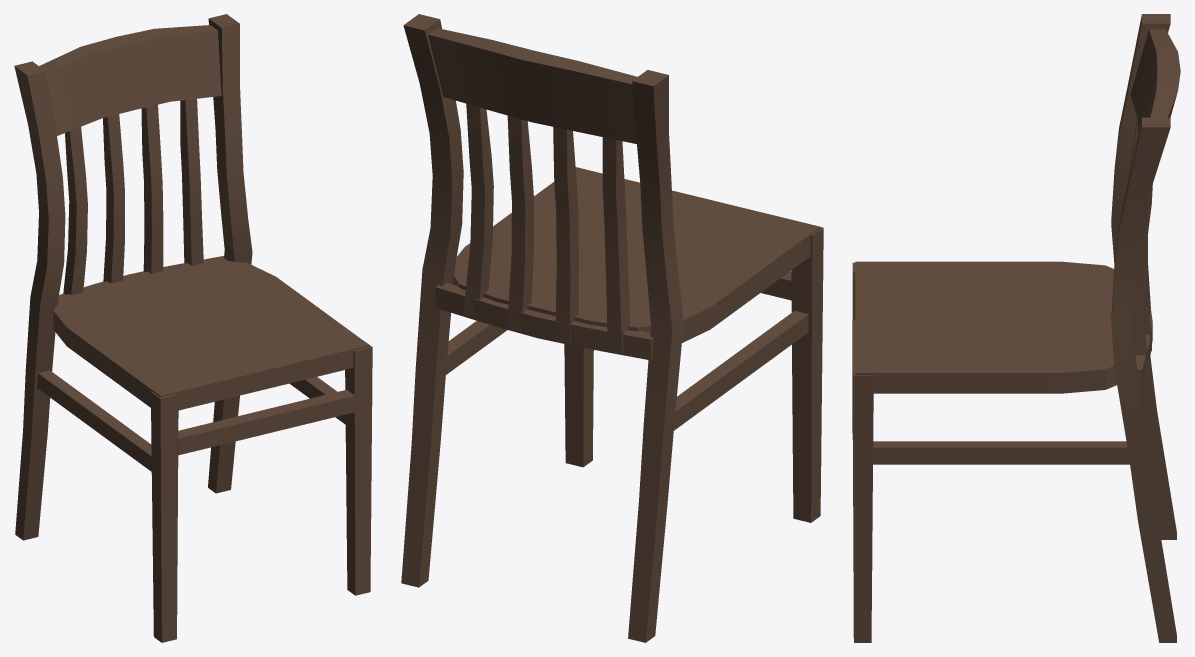
The model's file is Chair_kitchen_type1.FBX.
3 renders of one model, left to right at view 1: azimuth 30°, elevation 25°; view 2: azimuth 150°, elevation 25°; view 3: azimuth 270°, elevation 25°, orthographic. The views are drawn at different scales.
Visible parts, largest first — view 1: Chair_kitchen_type1_01; view 2: Chair_kitchen_type1_01; view 3: Chair_kitchen_type1_01.
Boxes of the visible parts, x1,y1,x2,y2 form: Chair_kitchen_type1_01: [14, 14, 372, 642]; Chair_kitchen_type1_01: [401, 14, 823, 642]; Chair_kitchen_type1_01: [852, 14, 1180, 642].
Size of the model in its own units: 109 by 230 by 133.
